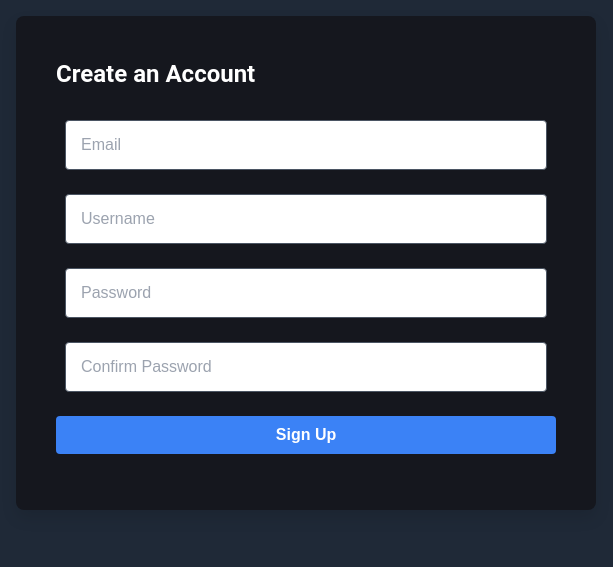
Test: SignUp Component › shows error text if signup fails due to 400 status code
The width and height of the screenshot is (613, 567).
Type "jck44@example.com" into the field with placeholder "Email" at (306, 145), box x1=65 y1=120 x2=547 y2=170
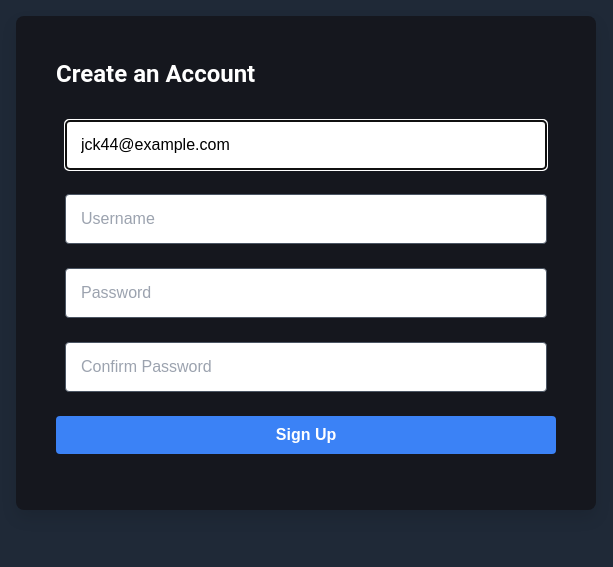
Type "jeremy" into the field with placeholder "Username" at (306, 219), box x1=65 y1=194 x2=547 y2=244
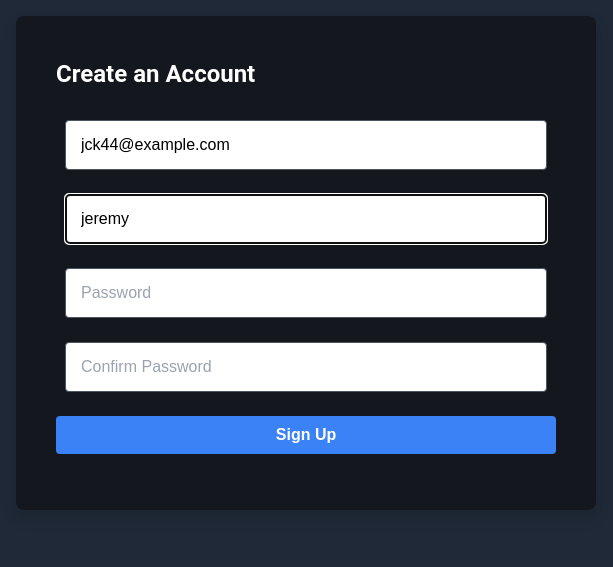
Type "safwanbad" into the password field with placeholder "Password" at (306, 293), box x1=65 y1=268 x2=547 y2=318
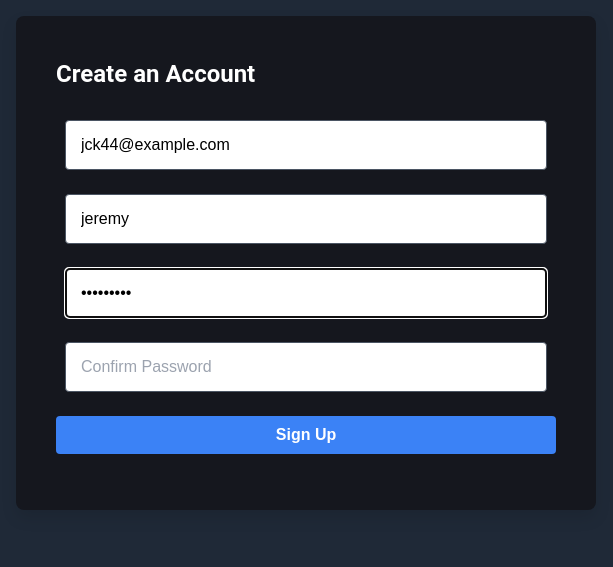
Type "safwanbad" into the password field with placeholder "Confirm Password" at (306, 367), box x1=65 y1=342 x2=547 y2=392
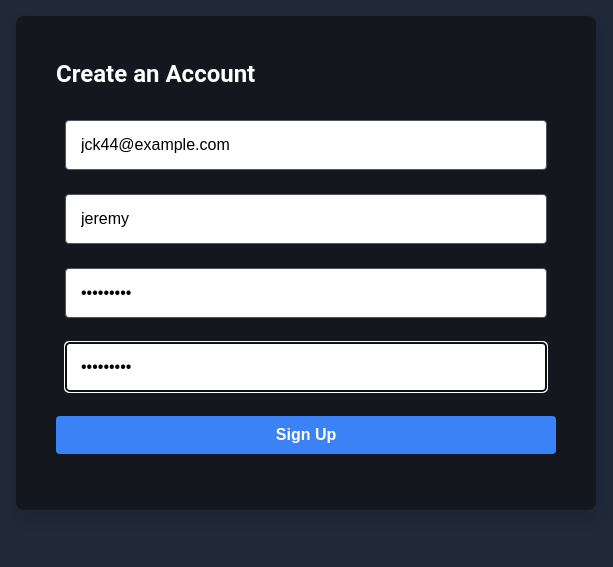
Click the button "Sign Up" at (306, 435), box x1=56 y1=416 x2=556 y2=454
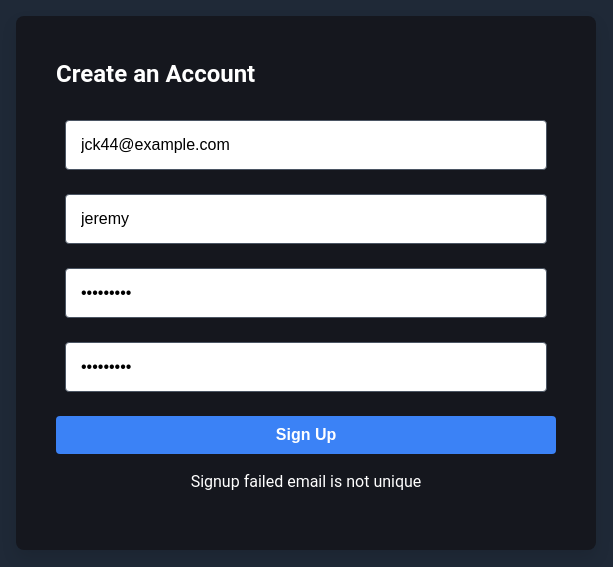
Expected: the text "Signup failed email is not unique" is shown, x1=191 y1=472 x2=421 y2=491
